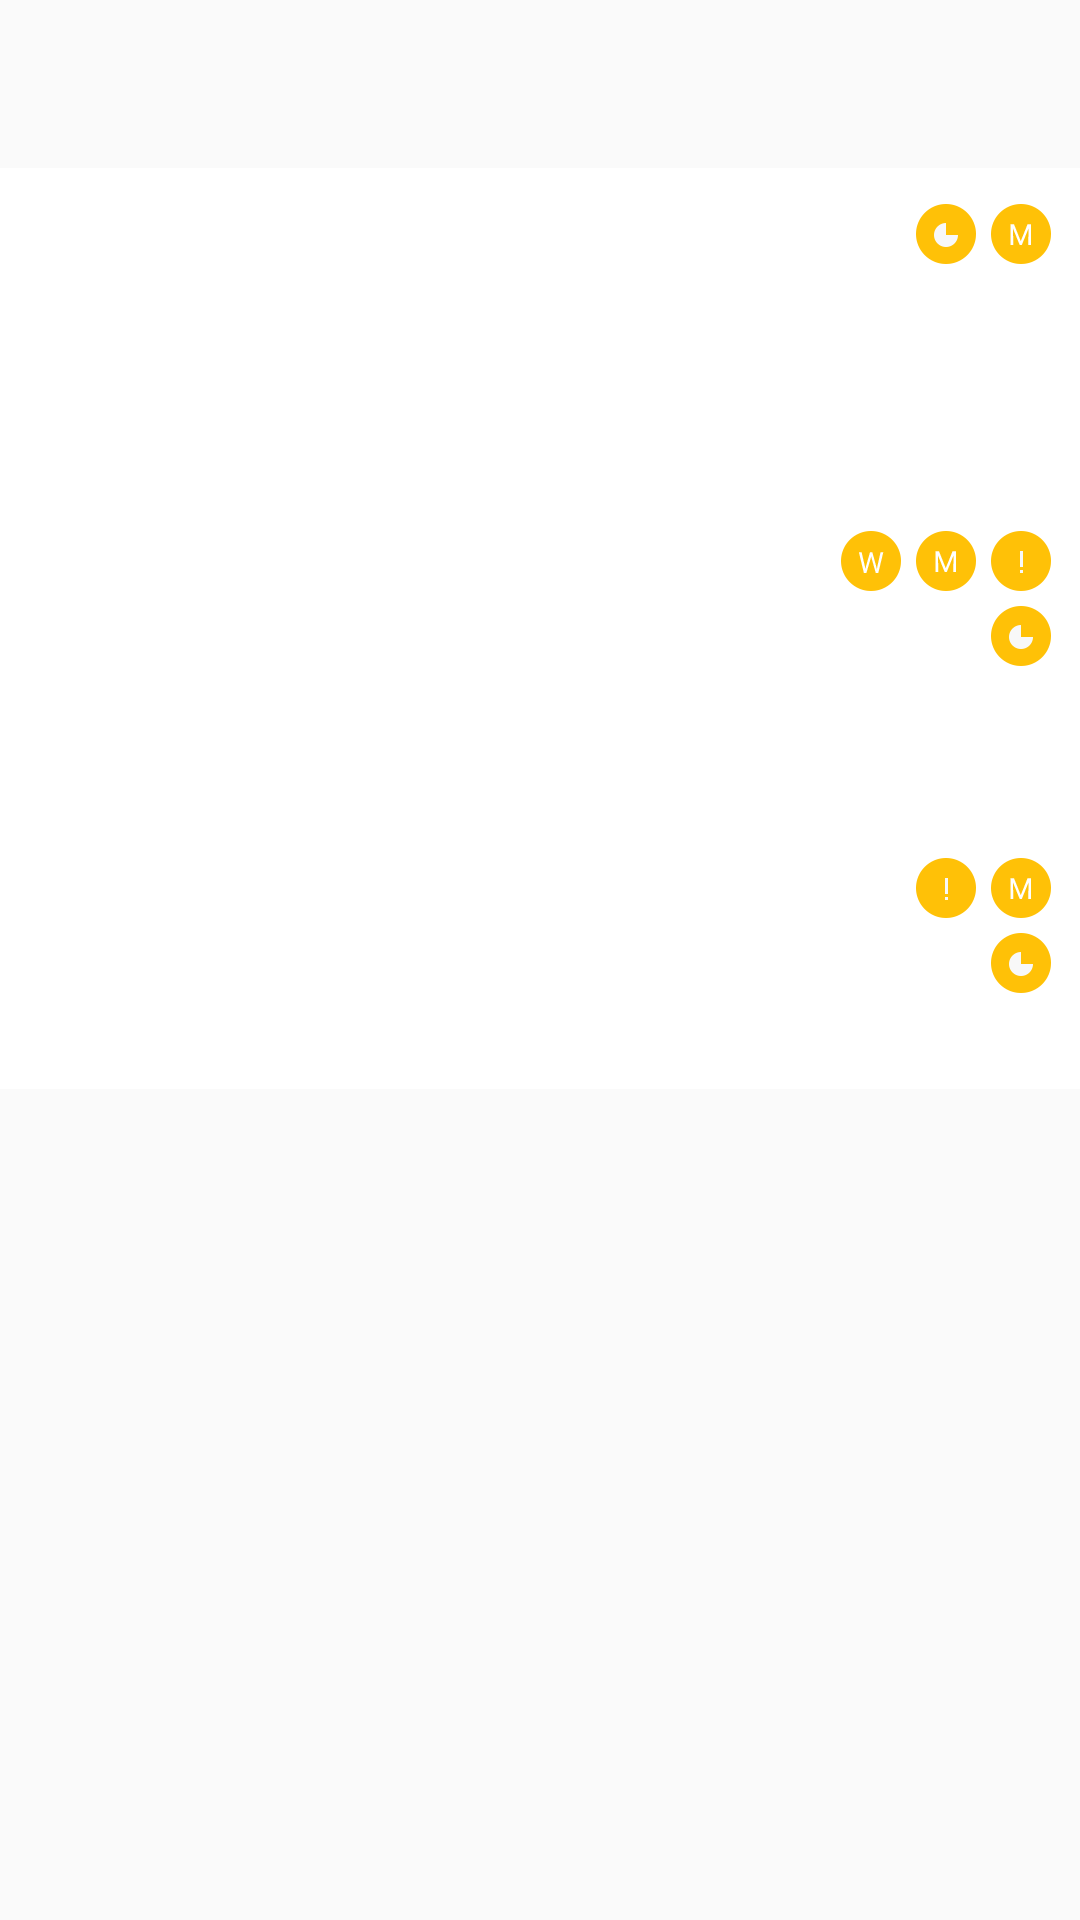

Locate icon controls on the screen. Image size 1080*1920, boxes as (x1, y1, x2, y2).
mobile: (991, 204, 1051, 264), (916, 531, 976, 591), (991, 858, 1051, 918)
web: (841, 531, 901, 591)
